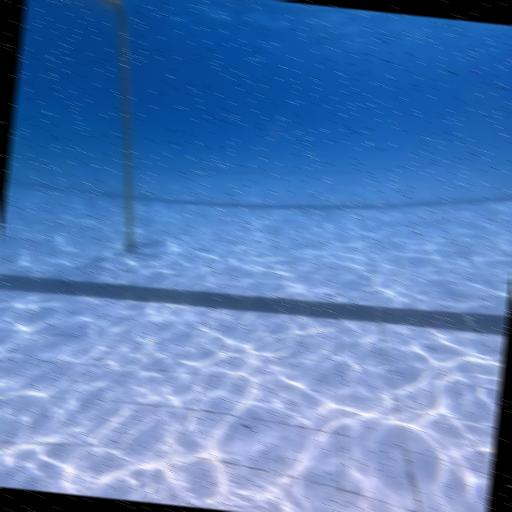gate: (28, 0, 190, 257)
